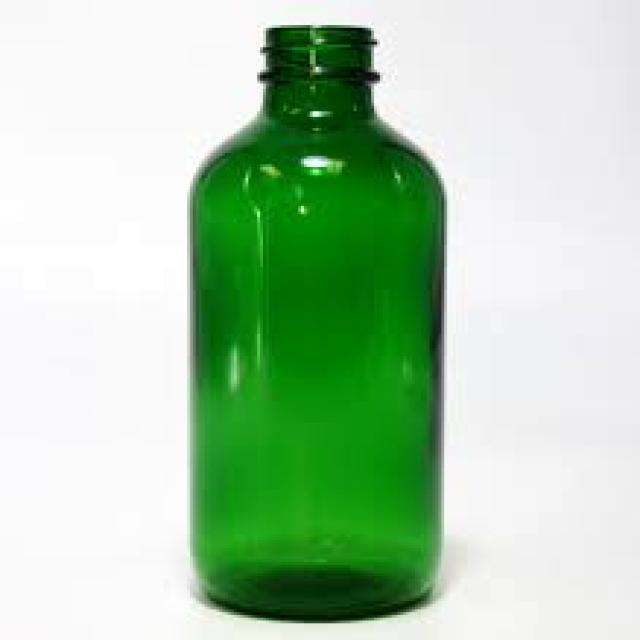Glass: (187, 21, 453, 623)
